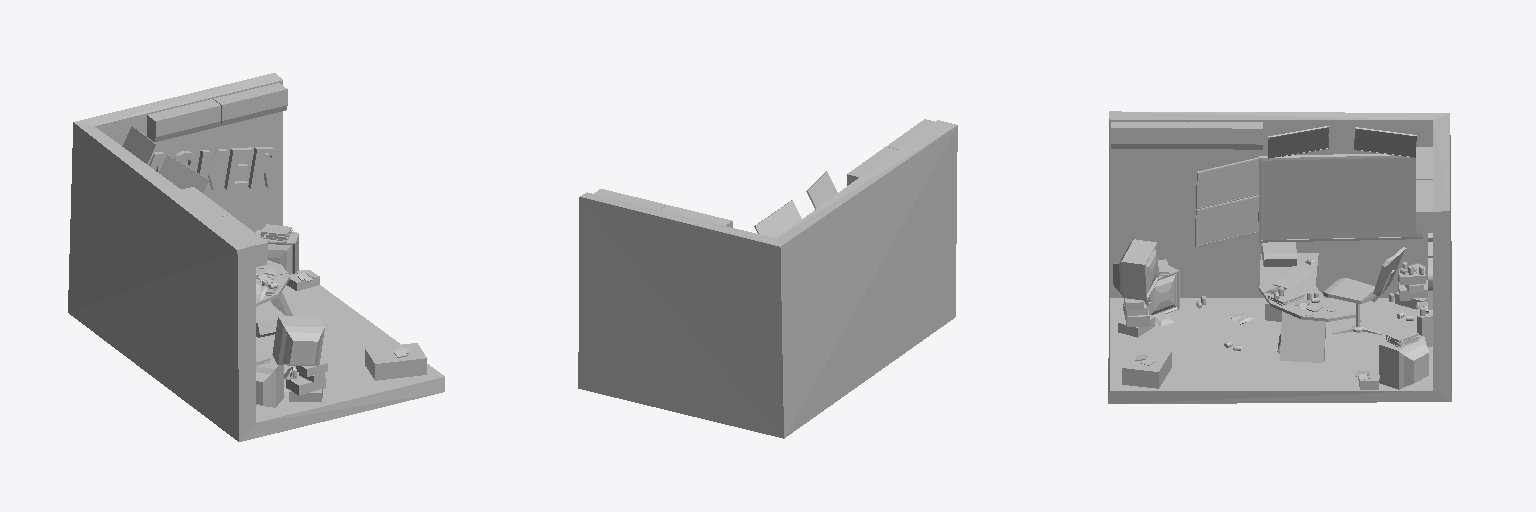
File: room.obj
3 renders of one model, left to right at view 1: azimuth 30°, elevation 25°; view 2: azimuth 150°, elevation 25°; view 3: azimuth 270°, elevation 25°, orthographic.
Visible parts, largest first — view 1: cube; view 2: cube; view 3: cube.
Boxes of the visible parts, x1,y1,x2,y2 form: cube: [68, 73, 444, 441]; cube: [578, 119, 957, 438]; cube: [1108, 111, 1451, 403].
Bounding box in the file's own units: 18.95 × 17.2 × 27.12.